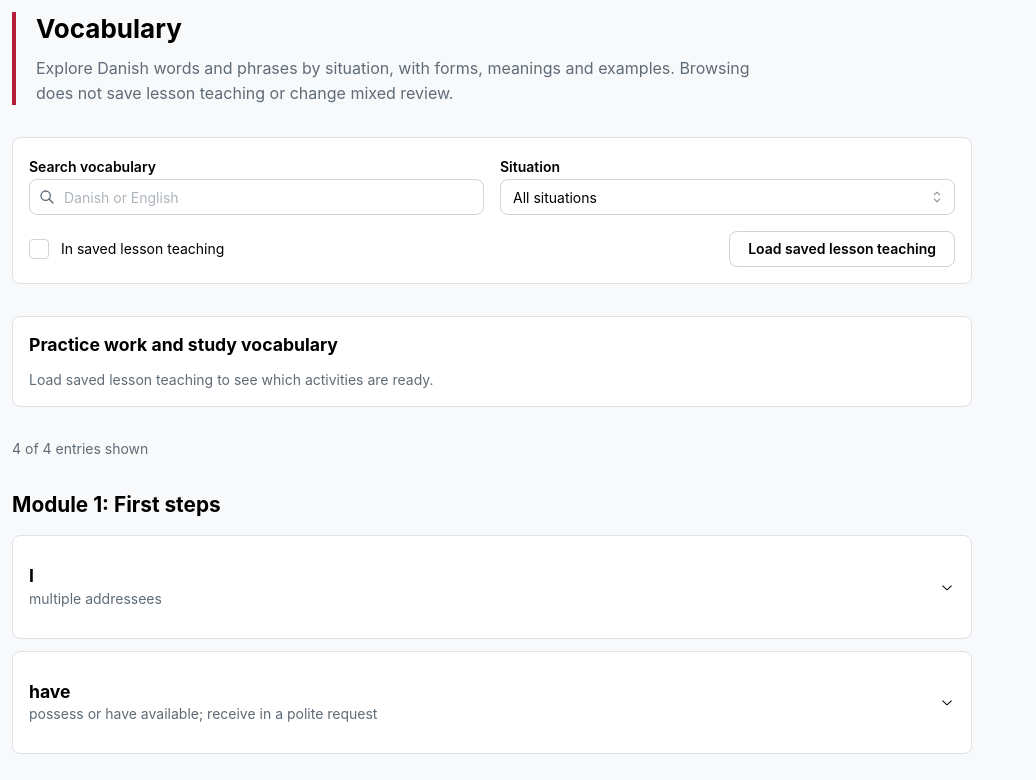
Test: searches headwords, active forms and English meanings and filters situation membership
Expected: the text "4 of 4 entries shown" is shown, [12, 440, 148, 457]
In the field labelled "Search vocabulary": (256, 197) [29, 179, 484, 215], type "har"
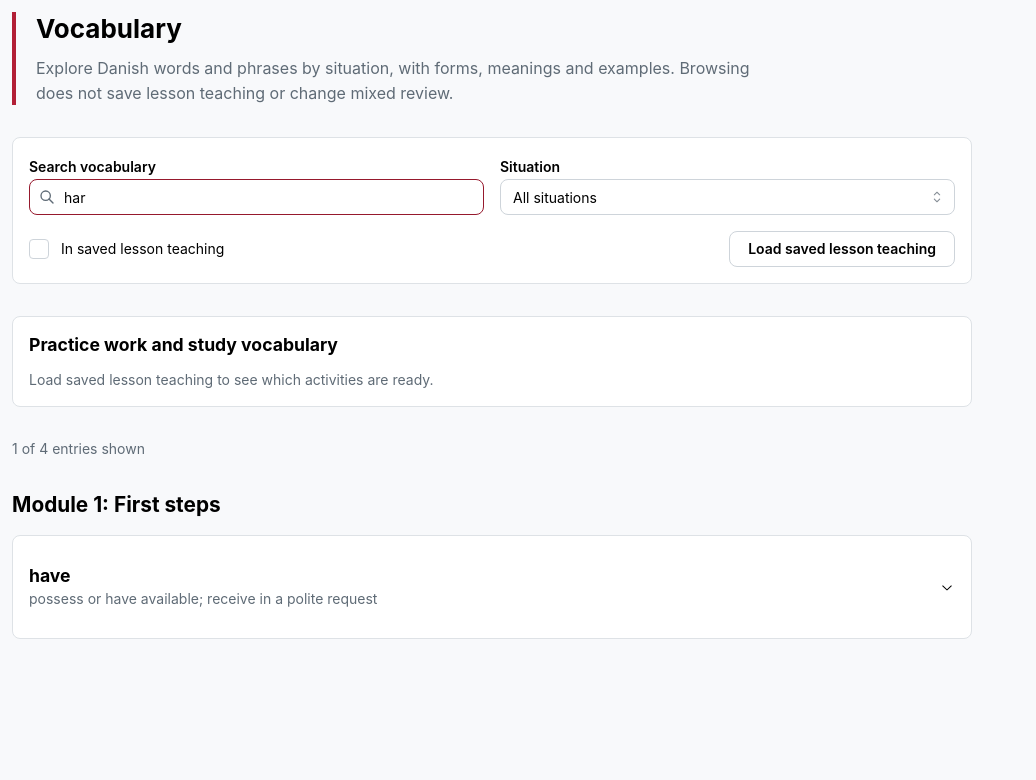
Expected: the button "have possess or have available; receive in a polite request" is shown, [13, 536, 971, 638]
Now the text "1 of 4 entries shown" is shown, box [12, 440, 145, 457]
Replace the text in the field labelled "Search vocabulary" with "BICYCLE": (256, 197) [29, 179, 484, 215]
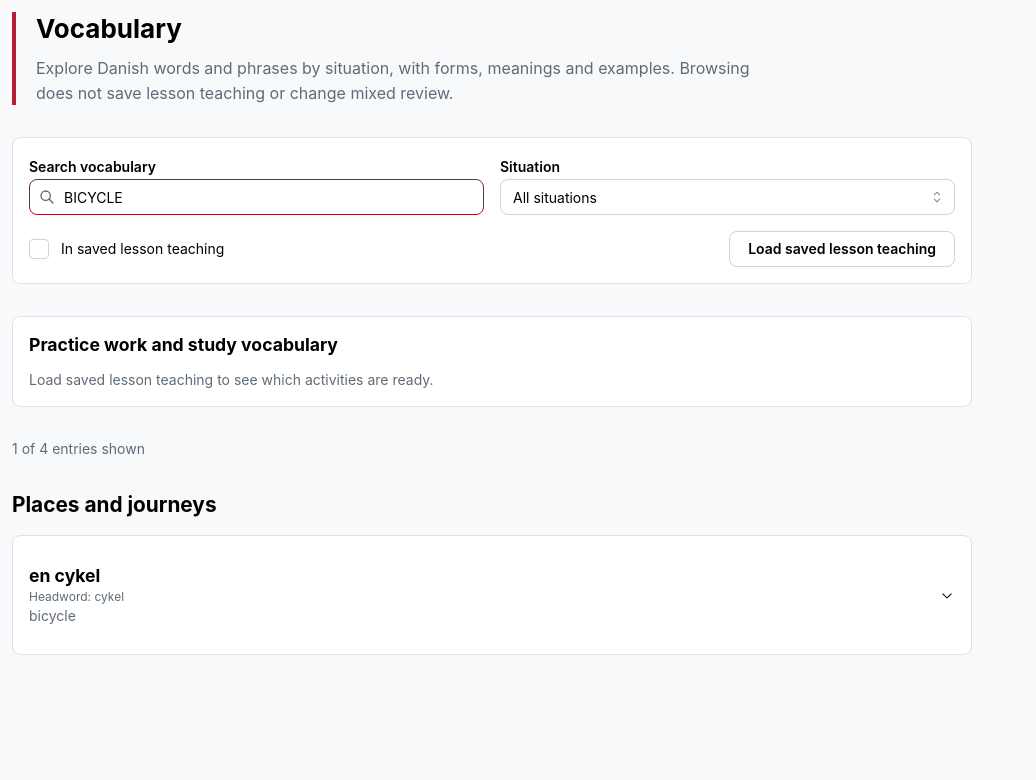
Expected: the text "1 of 4 entries shown" is shown, [12, 440, 145, 457]
Clear the field labelled "Search vocabulary": (256, 197) [29, 179, 484, 215]
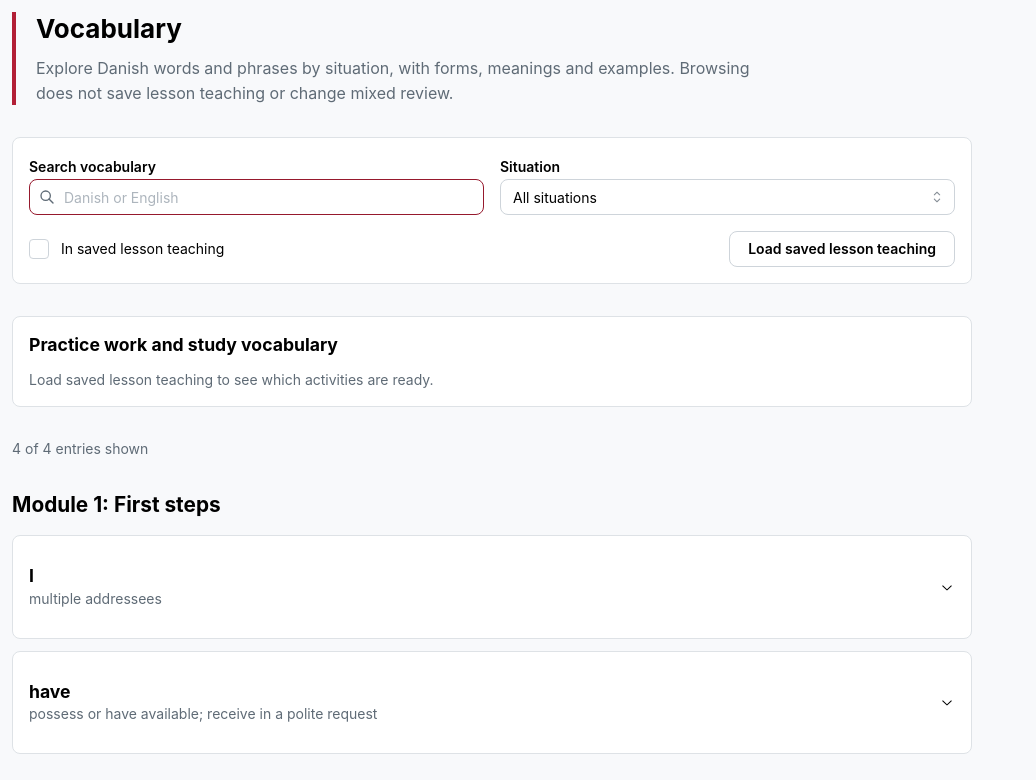
Click the dropdown labelled "Situation": (728, 197) [500, 179, 955, 215]
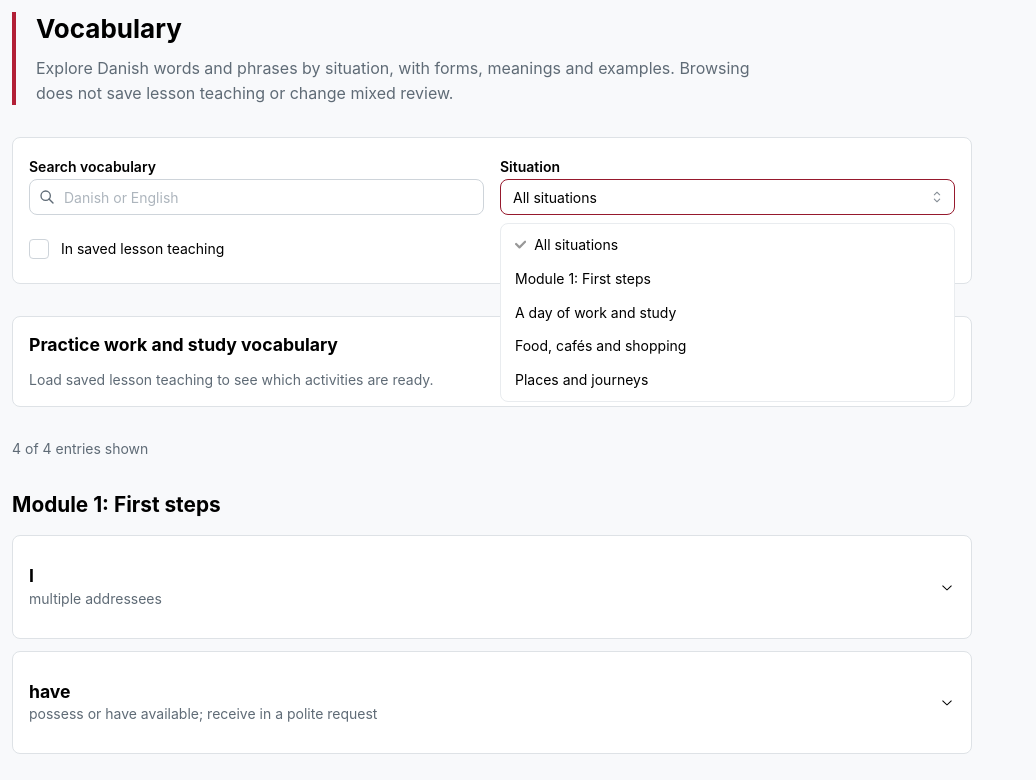
Click the option "Food, cafés and shopping": (601, 346) [515, 337, 686, 354]
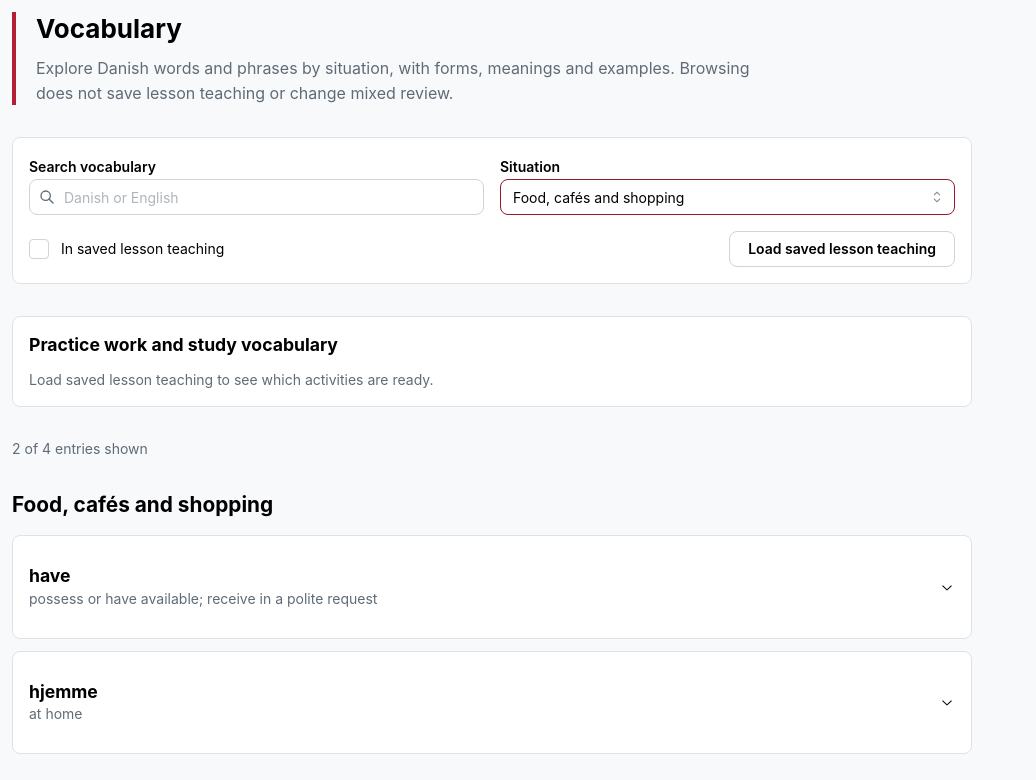
Now the button "have possess or have available; receive in a polite request" is shown, box [13, 536, 971, 638]
Now the button "hjemme at home" is shown, box [13, 652, 971, 753]
Now the text "2 of 4 entries shown" is shown, box [12, 440, 148, 457]
